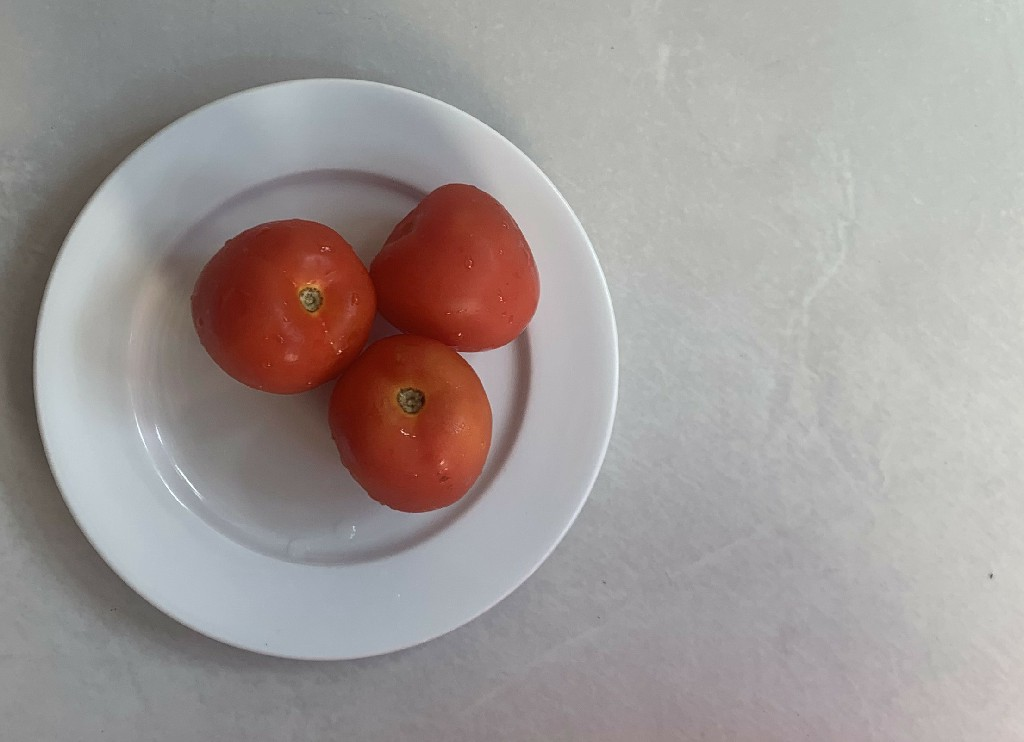OK: (184, 213, 382, 397), (331, 330, 501, 519), (370, 179, 548, 357)
